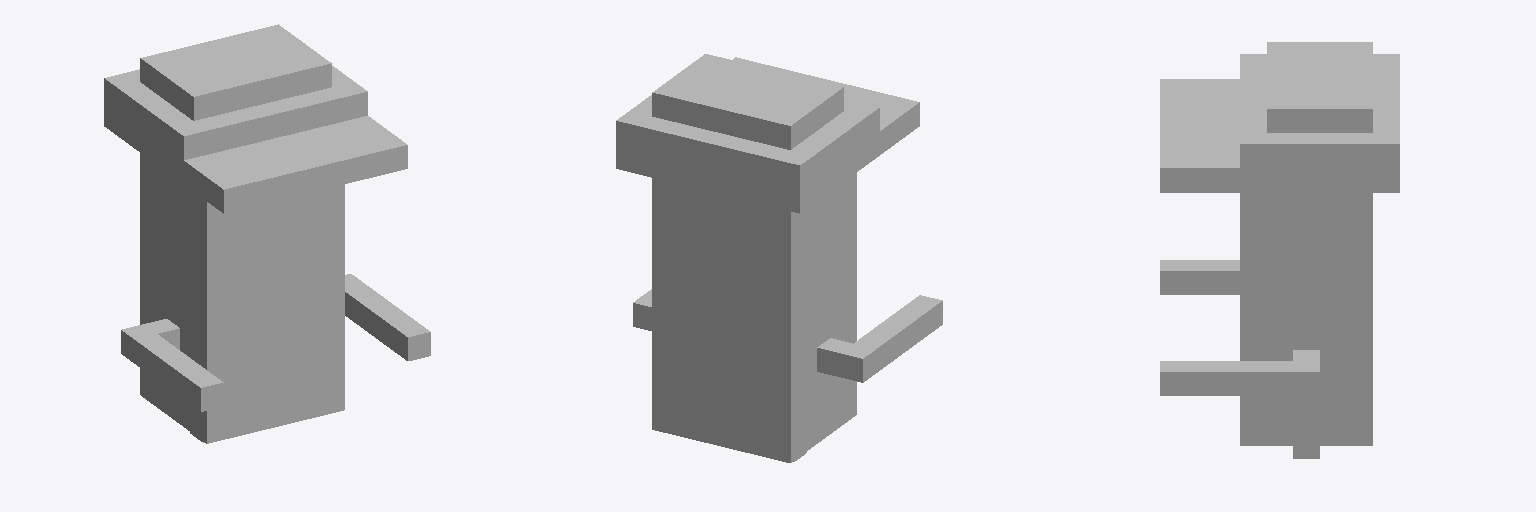
The model's file is rendőr.obj..obj.
3 views of the same model, side by side, from view 1: azimuth 30°, elevation 25°; view 2: azimuth 150°, elevation 25°; view 3: azimuth 270°, elevation 25° (orthographic).
Size of the model in its own units: 10 by 15 by 9.